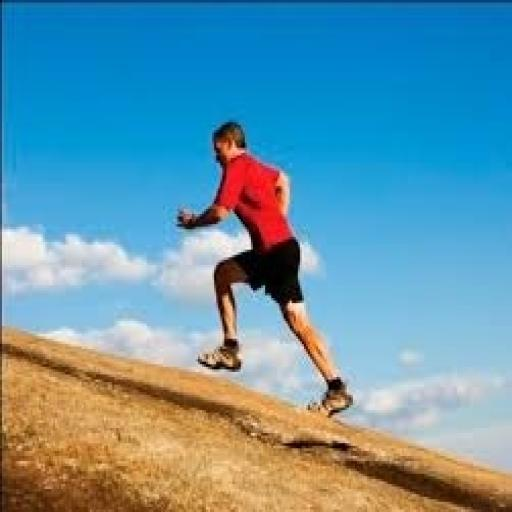running: (173, 117, 357, 420)
